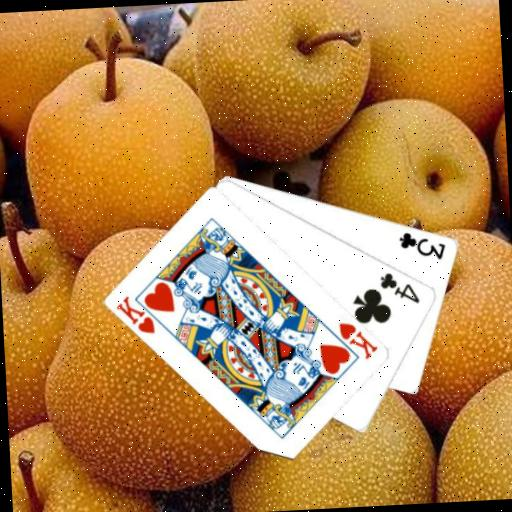3C: (396, 227, 449, 263)
4C: (377, 268, 422, 307)
KH: (336, 317, 381, 363), (114, 292, 158, 338)
